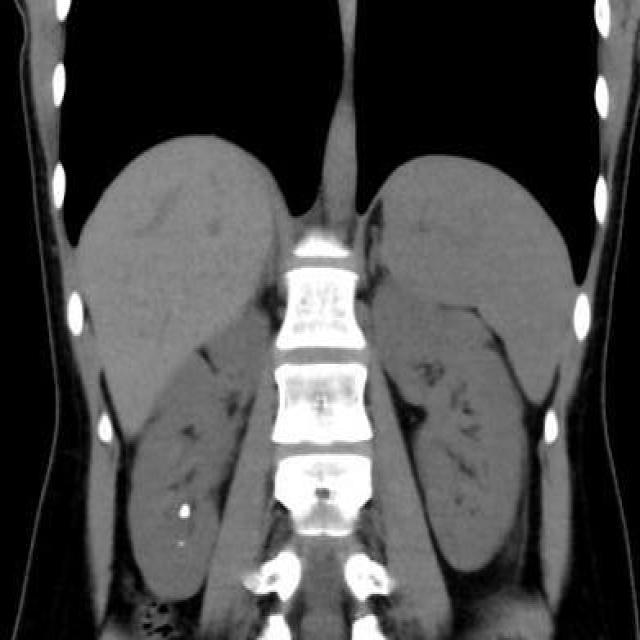Tas_Var: (178, 499, 192, 519), (178, 537, 190, 551)
